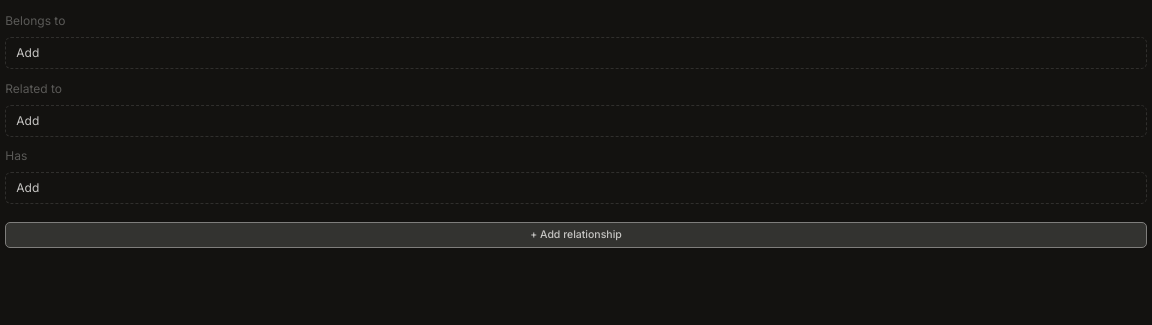
Scenario: DynamicRelationshipsPanel › create & open from AddRelationshipForm › hides the target dropdown after blur once the grace timeout expires
The image size is (1152, 325).
Step 1. Click the button "+ Add relationship" → [576, 235], box [5,222,1147,248]
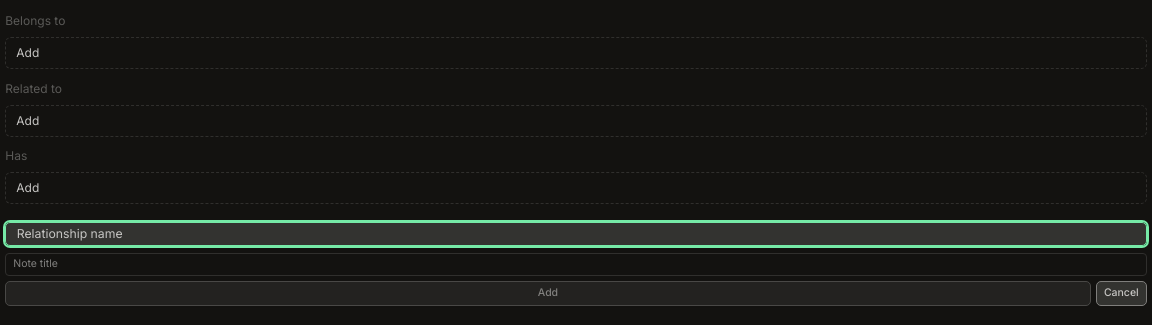
Step 2. Type "Mentions" into the field with placeholder "Relationship name" → [576, 234], box [5,222,1147,246]
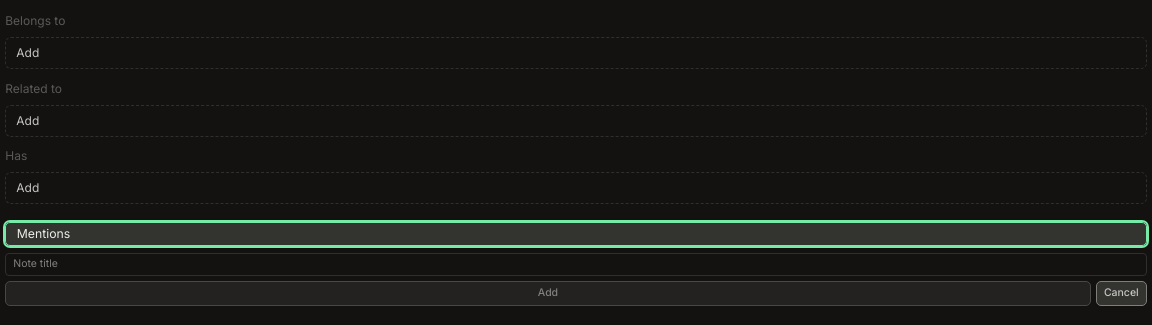
Step 3. Type "New Person" into the field with placeholder "Note title" → [576, 264], box [5,253,1147,276]
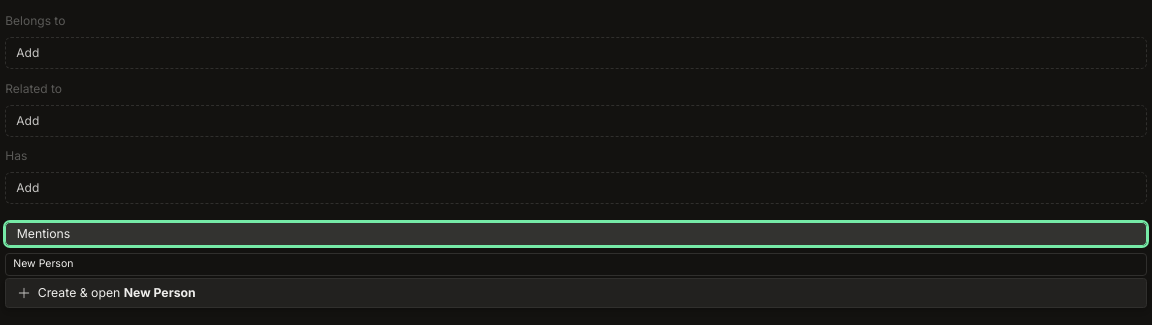
Result: the button with test id "create-and-open-option" is shown at [6,278,1146,306]
Step 4. Leave the 2nd field with placeholder "Note title", box [5,253,1147,276]
Wait 150 ms
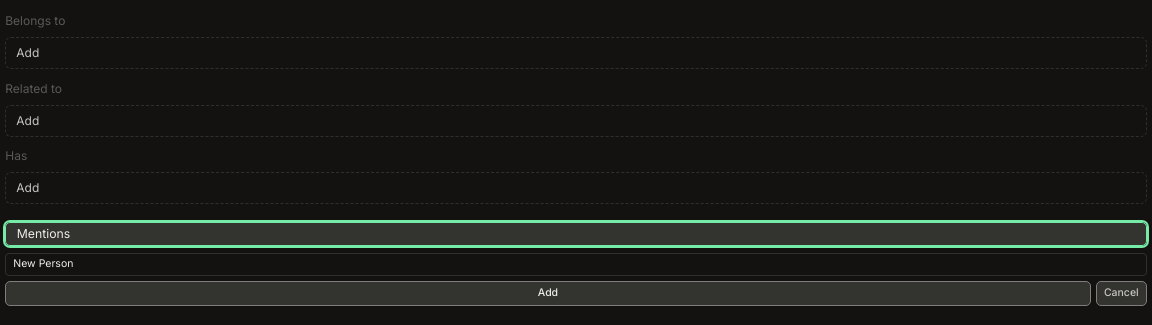
Result: the button with test id "create-and-open-option" is gone
